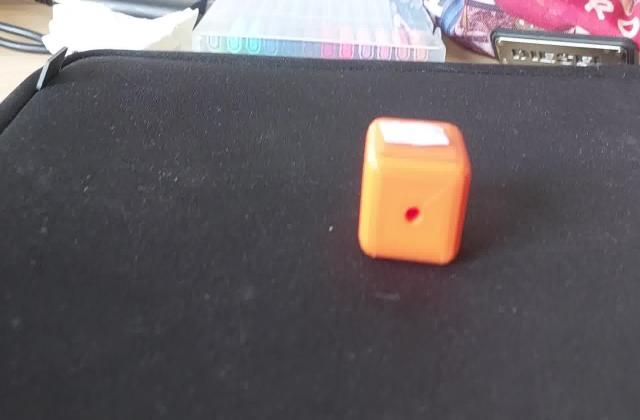cube: (356, 114, 476, 270)
white: (377, 121, 457, 150)
